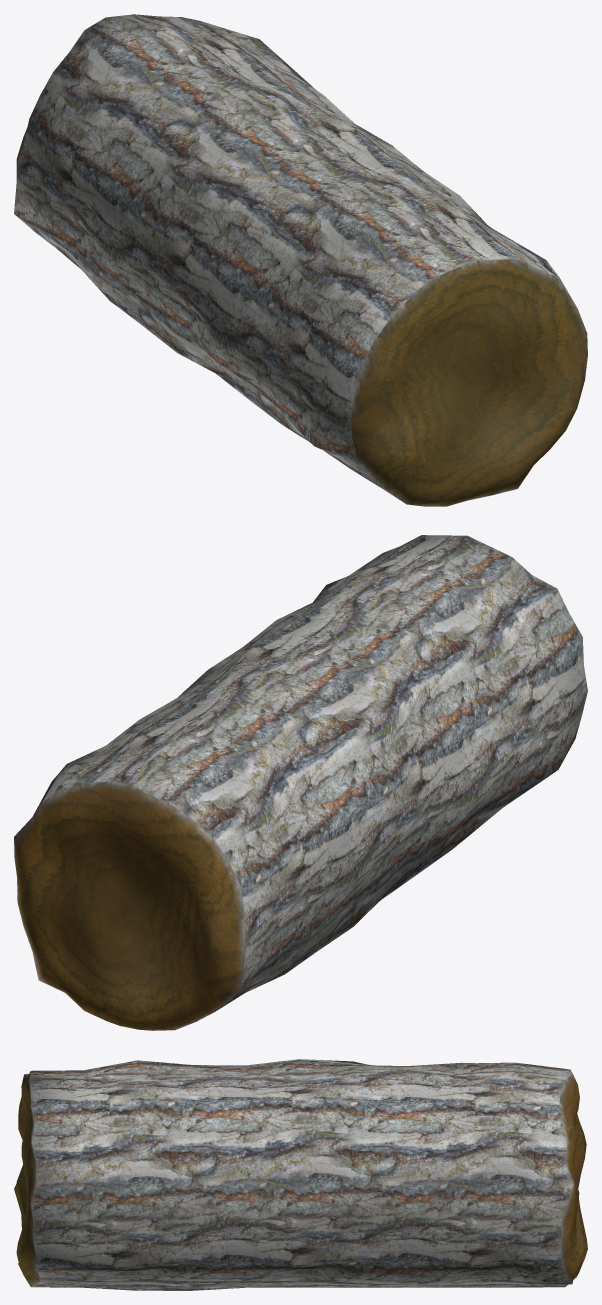
Rendered from tronco.glb.
3 views of the same model, one above another, from view 1: azimuth 30°, elevation 25°; view 2: azimuth 150°, elevation 25°; view 3: azimuth 270°, elevation 25° (orthographic). The views are drawn at different scales.
Visible parts, largest first — view 1: log_0; view 2: log_0; view 3: log_0.
Part boxes in pixels (x1,y1,x2,y2): log_0: (14,14,587,506); log_0: (14,535,587,1030); log_0: (14,1059,587,1290).
Size of the model in its own units: 0.8628 by 0.8648 by 2.13.
Materials: 1 (1 with a texture image).
